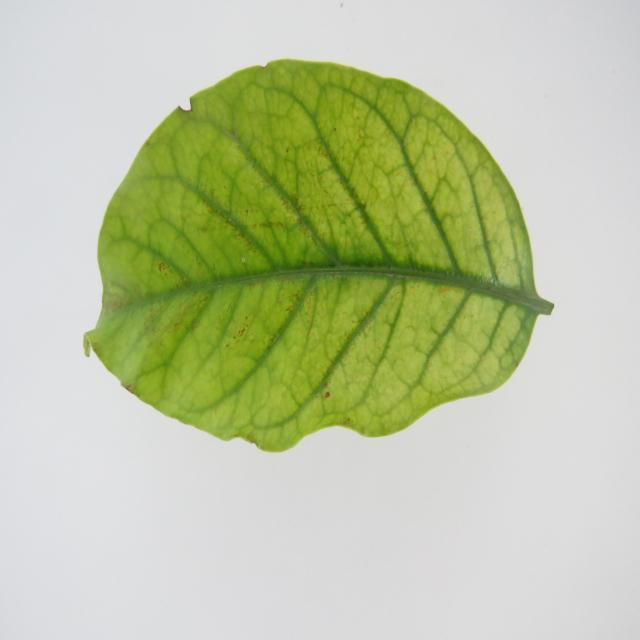DeficienciaNutricional-Hierro: (85, 60, 552, 452)
